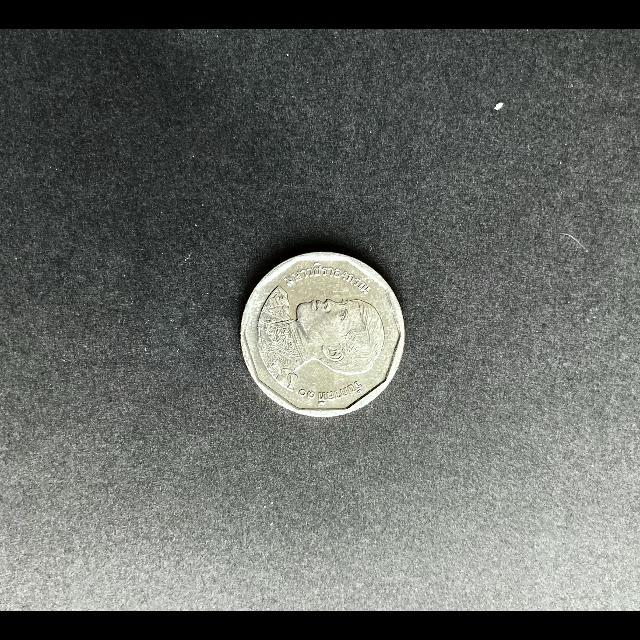5 Bath: (238, 245, 411, 423)
